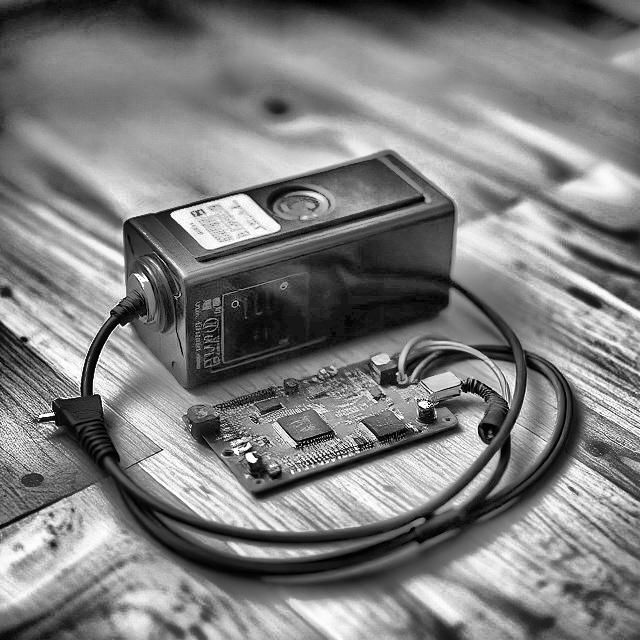Battery: (125, 151, 453, 389)
Cable: (38, 276, 575, 580)
PCB: (182, 350, 460, 498)
